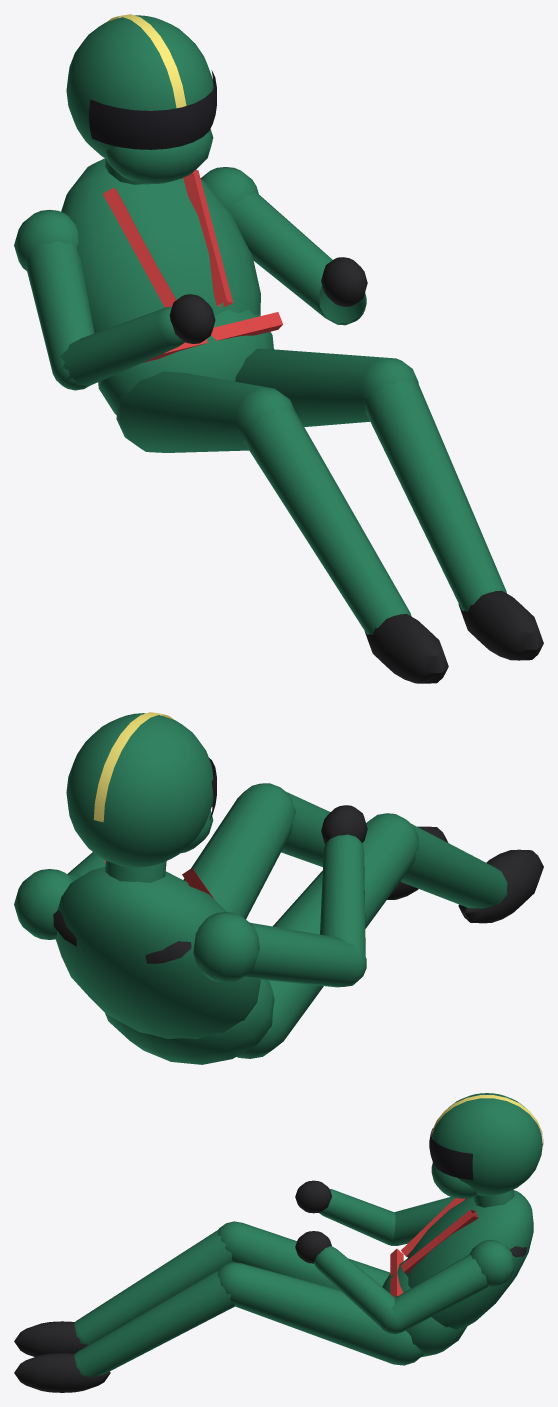
Rendered from jeanetti_lmp2_driver.glb.
The picture shows the model from 3 angles, top to bottom: view 1: azimuth 30°, elevation 25°; view 2: azimuth 150°, elevation 25°; view 3: azimuth 270°, elevation 25°; orthographic projection. The views are drawn at different scales.
Parts seen in each view (by area): view 1: jeanetti_lmp2_driver; view 2: jeanetti_lmp2_driver; view 3: jeanetti_lmp2_driver.
Boxes of the visible parts, x1,y1,x2,y2 form: jeanetti_lmp2_driver: (14, 14, 543, 683); jeanetti_lmp2_driver: (14, 712, 543, 1064); jeanetti_lmp2_driver: (14, 1093, 543, 1392).
Size of the model in its own units: 0.65 by 0.827 by 1.42.
